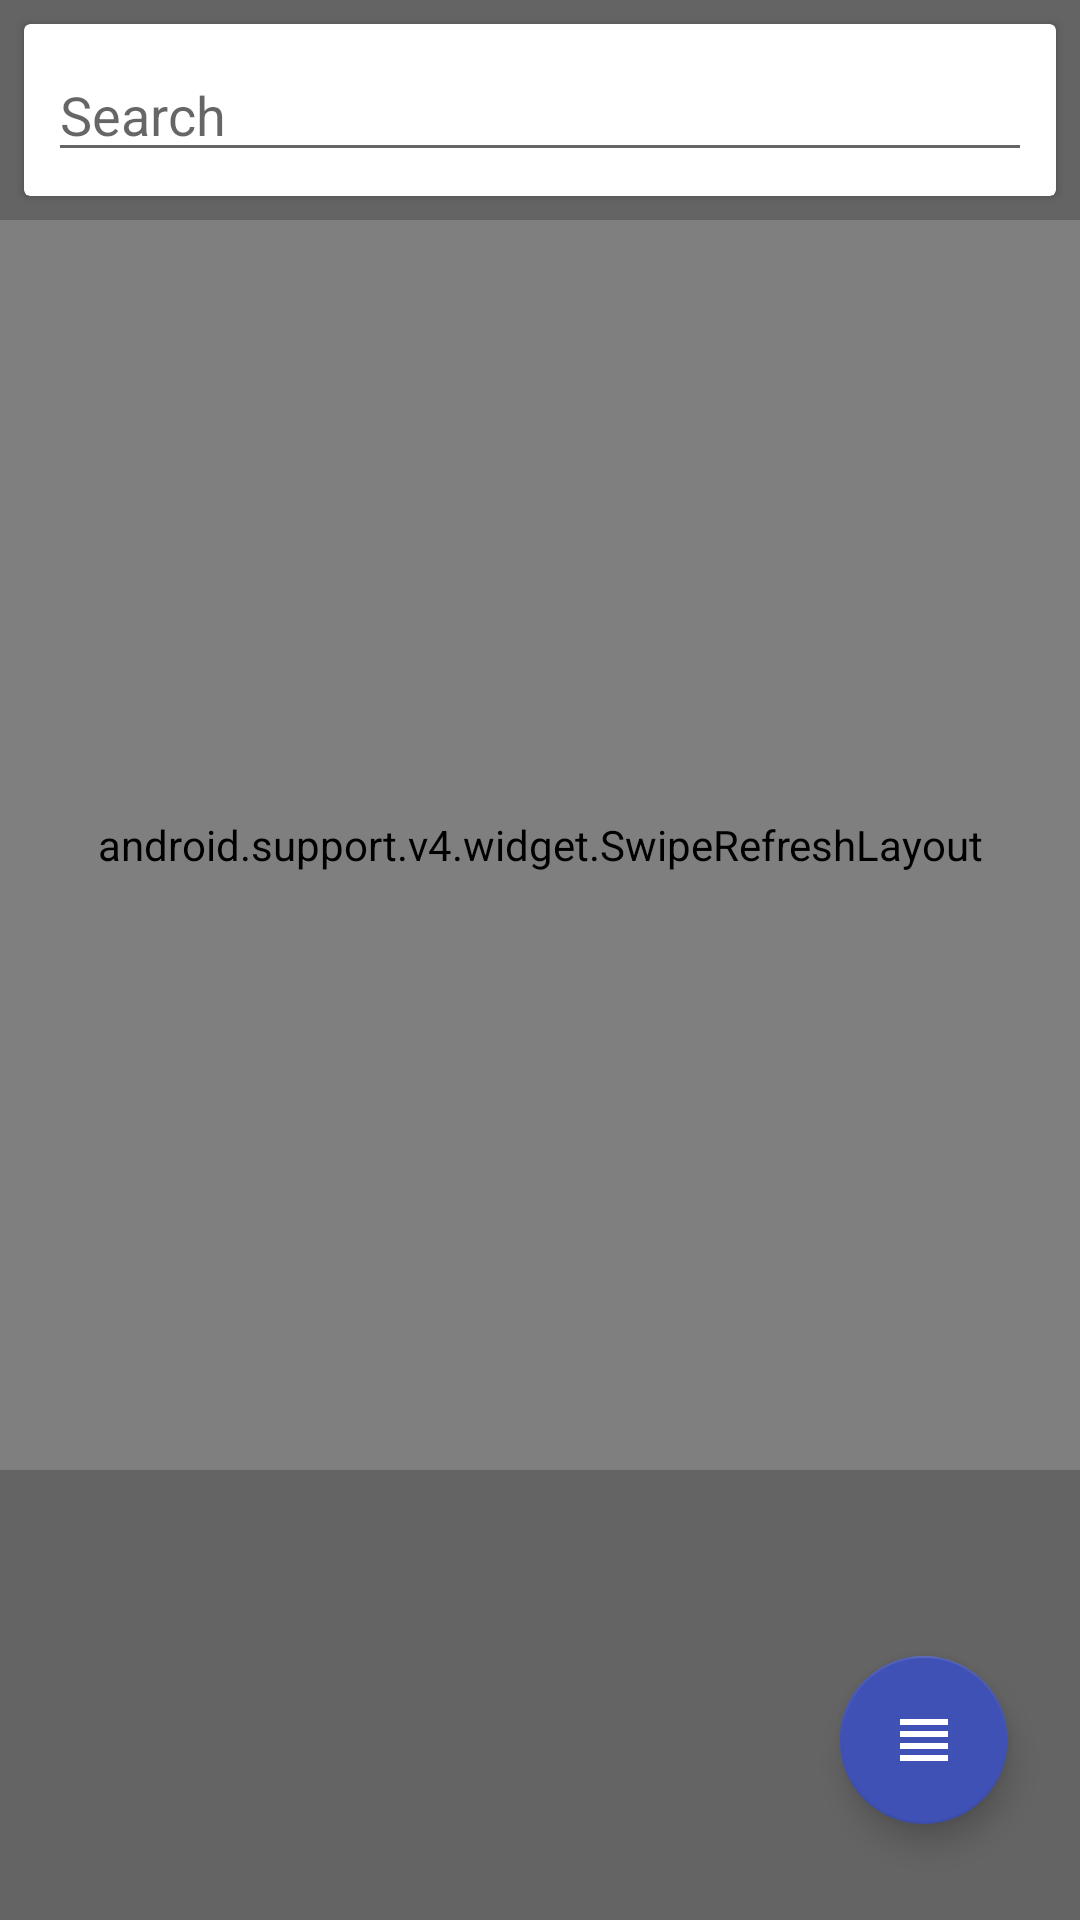

Icon click points for this 1080×1920 phone screenshot, format point (x, y):
view headline: point (924, 1740)
